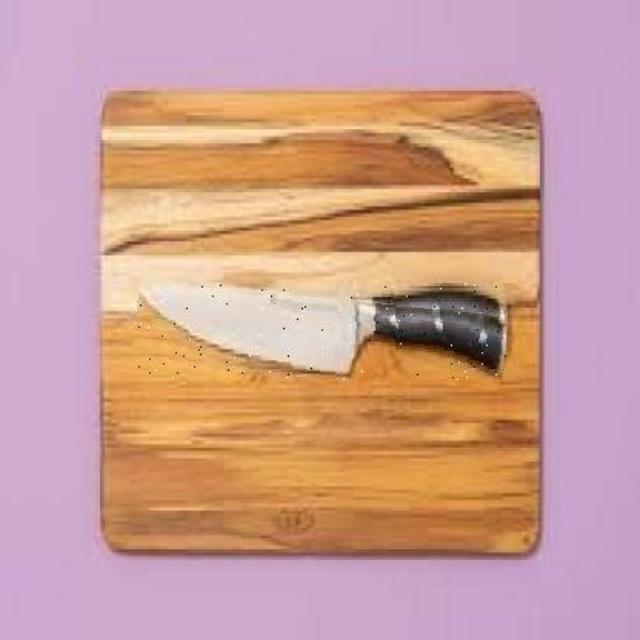Knife: (134, 284, 506, 380)
